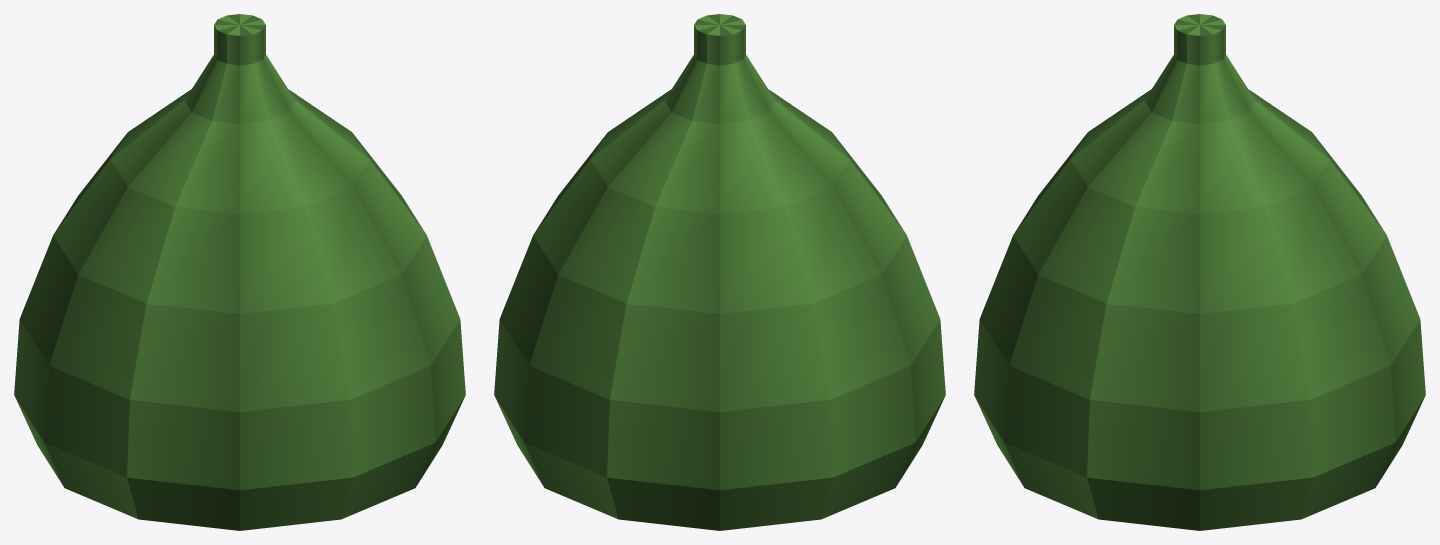
Rendered from cactus_barrel.glb.
The picture shows the model from 3 angles, left to right: view 1: azimuth 30°, elevation 25°; view 2: azimuth 150°, elevation 25°; view 3: azimuth 270°, elevation 25°; orthographic projection.
Parts seen in each view (by area): view 1: cactus_barrel_solid; view 2: cactus_barrel_solid; view 3: cactus_barrel_solid.
Boxes of the visible parts, x1=… form: cactus_barrel_solid: x1=14, y1=14, x2=465, y2=530; cactus_barrel_solid: x1=494, y1=14, x2=945, y2=530; cactus_barrel_solid: x1=974, y1=14, x2=1425, y2=530.
Size of the model in its own units: 0.8765 by 0.9 by 0.8765.
